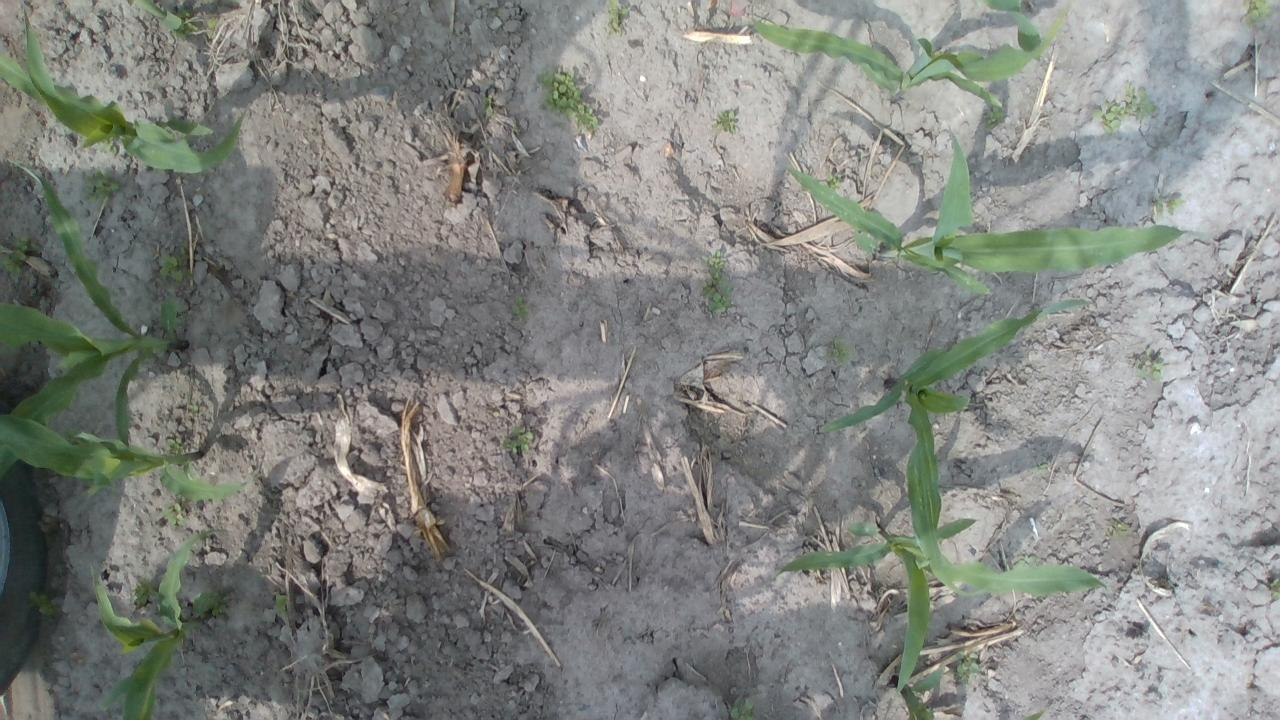Maize: (814, 295, 1092, 600), (786, 127, 1210, 298), (774, 516, 1114, 696), (0, 156, 188, 474), (0, 6, 244, 174), (754, 0, 1074, 108), (83, 526, 227, 718), (0, 413, 251, 503), (888, 0, 1043, 59), (884, 667, 1046, 720), (124, 0, 194, 40)
Weeds: (538, 64, 602, 132), (696, 250, 733, 313), (1, 233, 38, 276), (154, 245, 192, 282), (1122, 84, 1156, 121), (84, 167, 118, 202), (1130, 348, 1164, 382), (1236, 0, 1272, 30), (1092, 100, 1122, 135), (951, 650, 980, 686), (29, 588, 65, 616), (502, 423, 534, 454), (603, 0, 629, 37), (132, 577, 160, 607), (171, 8, 197, 40), (206, 584, 230, 616), (983, 104, 1005, 134), (826, 337, 850, 364), (712, 110, 738, 134), (732, 696, 756, 720), (163, 502, 185, 526), (1107, 519, 1130, 540), (512, 292, 528, 322), (1011, 555, 1039, 571), (274, 590, 290, 617), (203, 17, 220, 40), (166, 436, 186, 455), (96, 138, 118, 155), (826, 174, 843, 190), (1148, 196, 1164, 213), (1031, 304, 1047, 320), (1169, 197, 1184, 214), (1030, 463, 1049, 476), (1270, 575, 1280, 599), (482, 96, 494, 116), (182, 132, 194, 144), (186, 402, 199, 412), (490, 9, 501, 18)
